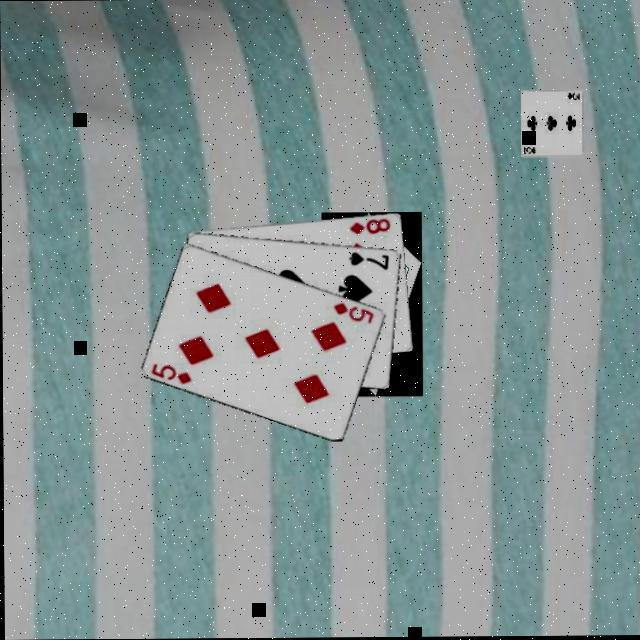5D: (332, 297, 378, 325), (150, 359, 196, 385)
7S: (347, 247, 393, 271)
8D: (348, 214, 394, 235)
